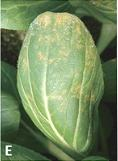Bok-Choy-Diseased: (17, 13, 99, 149)
